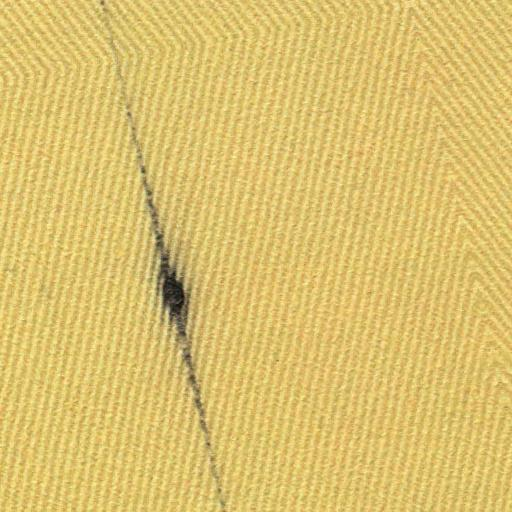stain: (83, 3, 235, 510)
